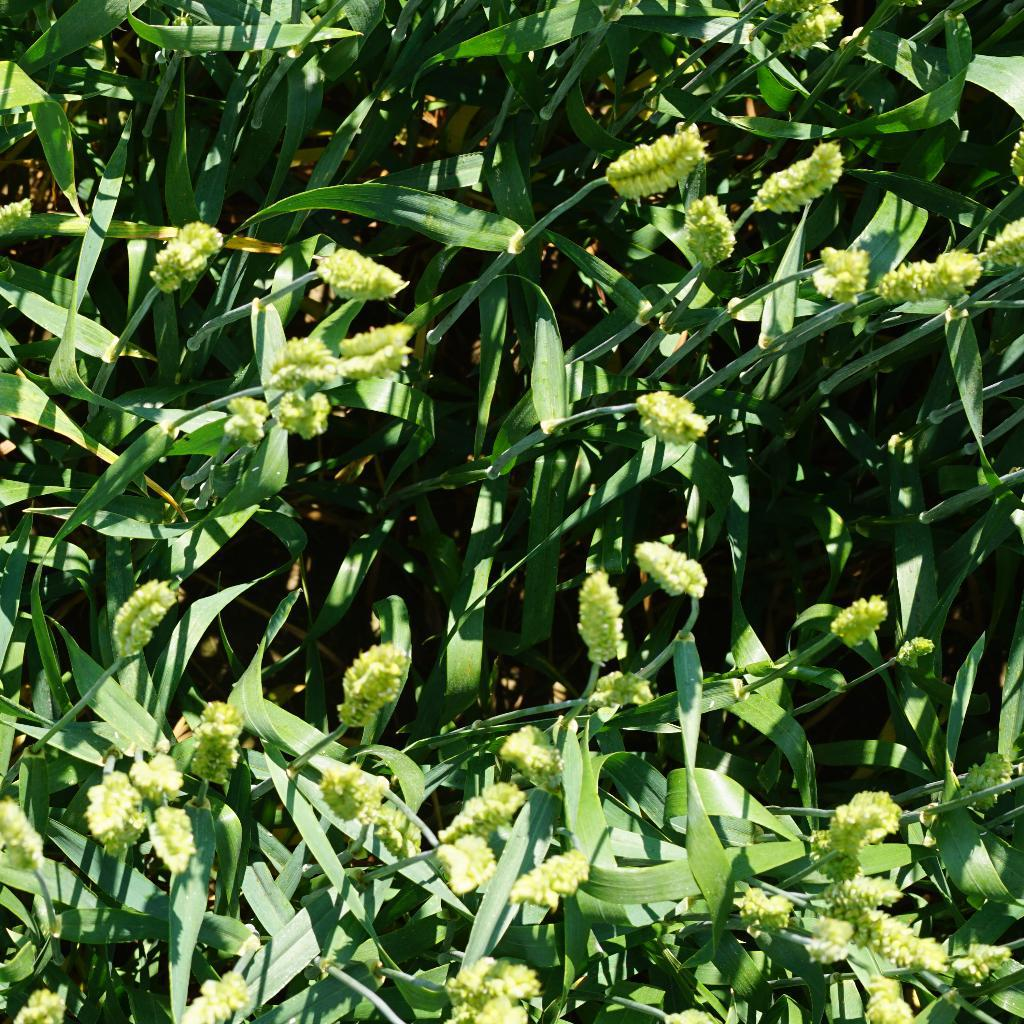0-0: (579, 114, 716, 202), (178, 690, 257, 807), (105, 571, 195, 672), (438, 949, 559, 1024), (737, 138, 855, 213), (866, 239, 980, 316), (332, 636, 410, 748), (500, 714, 590, 803), (561, 556, 631, 666), (309, 238, 422, 305), (623, 380, 717, 460), (501, 847, 605, 918), (335, 320, 436, 392), (804, 778, 899, 854), (357, 785, 444, 866), (434, 787, 539, 849), (160, 959, 260, 1024), (150, 215, 224, 299), (141, 796, 212, 882), (636, 530, 716, 606), (848, 899, 946, 961), (765, 3, 858, 67), (916, 931, 1015, 990), (679, 187, 746, 272), (89, 762, 148, 855), (817, 866, 923, 916), (728, 877, 802, 946), (856, 960, 935, 1024), (795, 240, 871, 306), (950, 746, 1019, 818), (271, 321, 346, 387), (317, 765, 385, 837), (828, 576, 894, 649), (590, 660, 661, 727), (0, 791, 56, 875), (272, 381, 352, 438), (425, 833, 501, 893), (799, 903, 859, 965), (129, 752, 193, 807), (217, 393, 273, 453), (879, 624, 952, 666), (976, 208, 1024, 267), (5, 976, 63, 1024), (0, 186, 36, 250)
